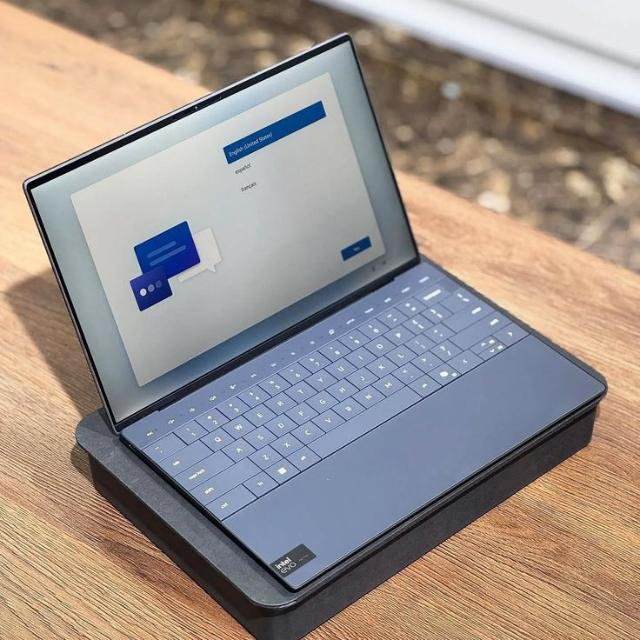laptop: (28, 33, 592, 585)
